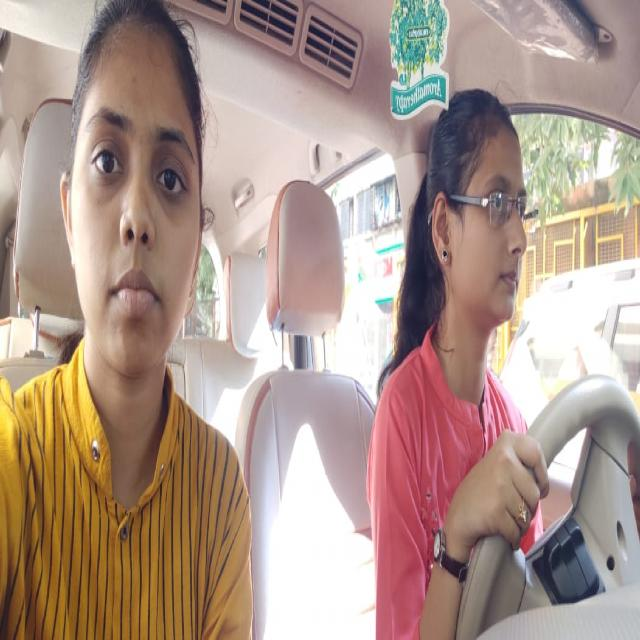person: (64, 17, 202, 370), (428, 98, 527, 326)
